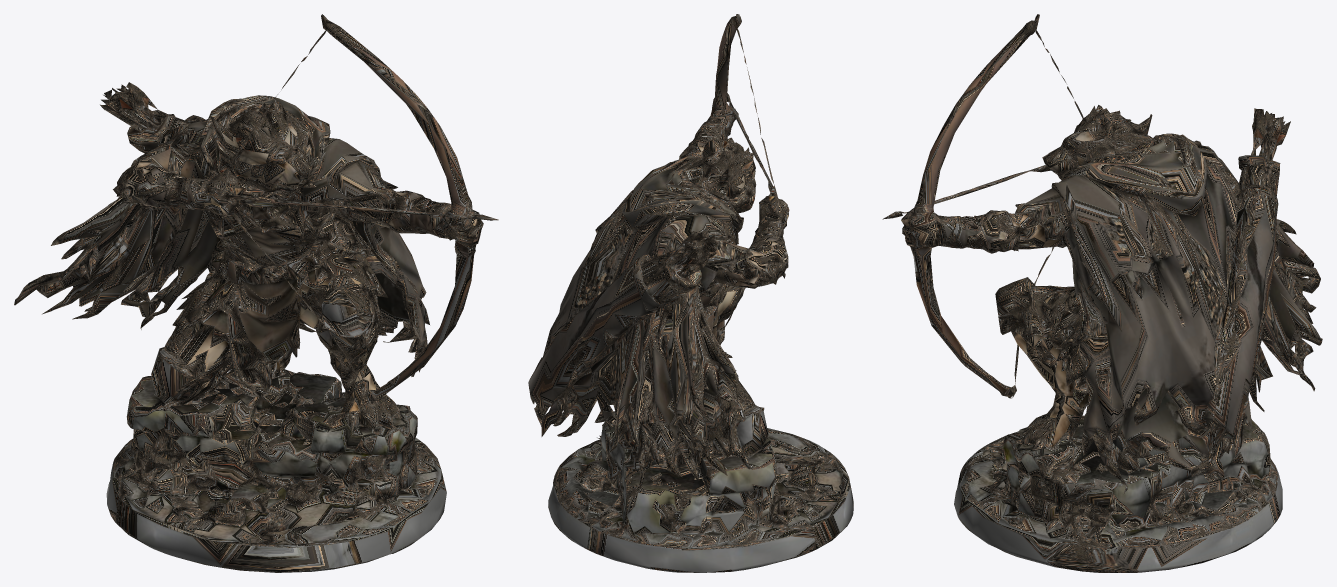
File: gnoll-archer.glb
3 views of the same model, side by side, from view 1: azimuth 30°, elevation 25°; view 2: azimuth 150°, elevation 25°; view 3: azimuth 270°, elevation 25° (orthographic). The views are drawn at different scales.
Size of the model in its own units: 1.26 by 1.99 by 1.62.
1 material, 1 textured.
